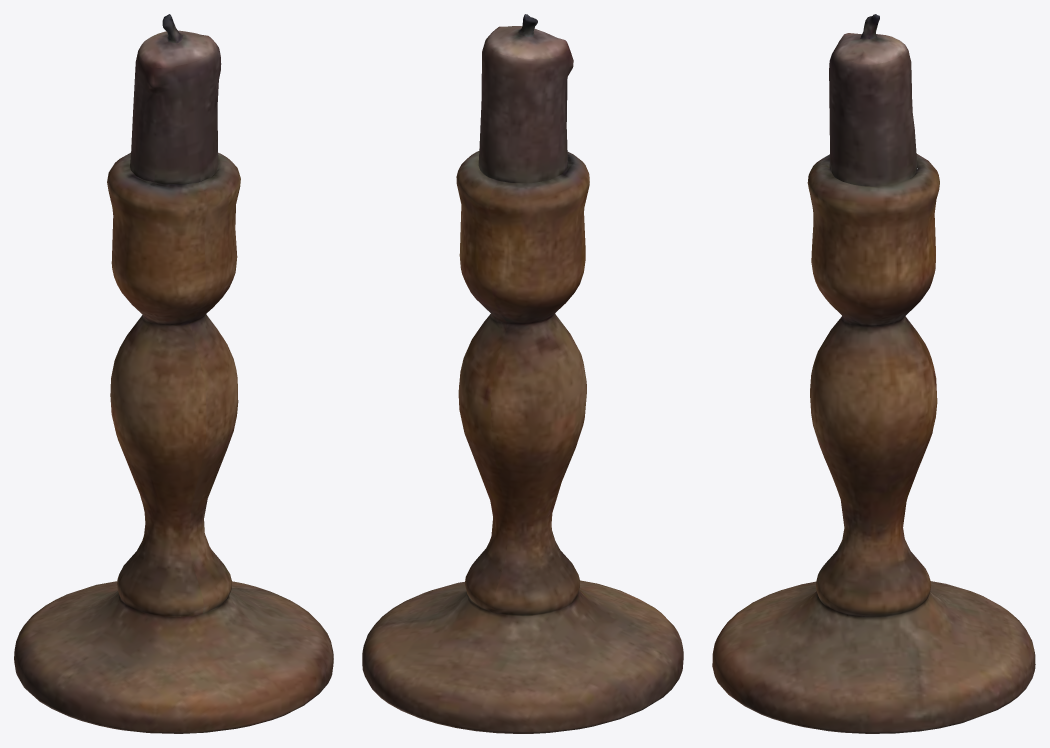
File: candlestick.glb
The picture shows the model from 3 angles, left to right: view 1: azimuth 30°, elevation 25°; view 2: azimuth 150°, elevation 25°; view 3: azimuth 270°, elevation 25°; orthographic projection.
Parts seen in each view (by area): view 1: wooden_candlestick; view 2: wooden_candlestick; view 3: wooden_candlestick.
Boxes of the visible parts, x1,y1,x2,y2 form: wooden_candlestick: (14, 14, 333, 733); wooden_candlestick: (362, 14, 683, 733); wooden_candlestick: (712, 14, 1035, 733).
Bounding box in the file's own units: 0.0972 × 0.2196 × 0.0986.
Materials: 1 (1 with a texture image).
